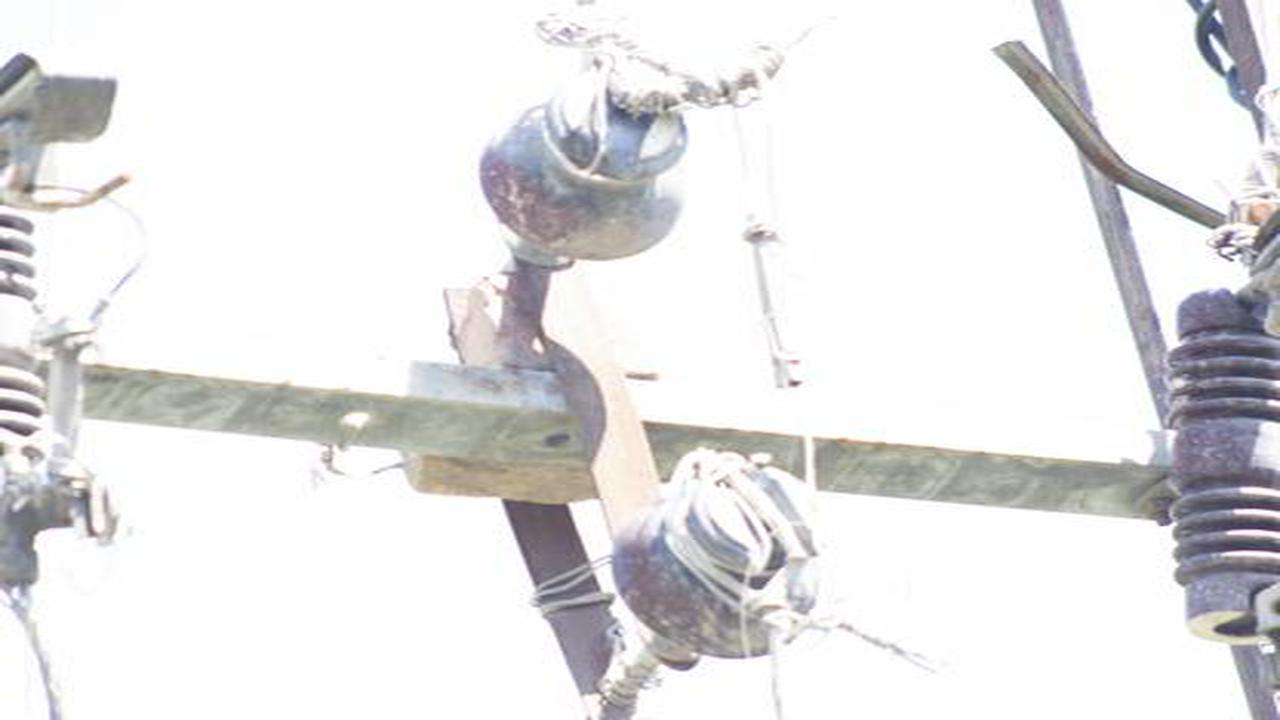insulator_pin: (610, 444, 828, 673), (479, 71, 694, 268)
